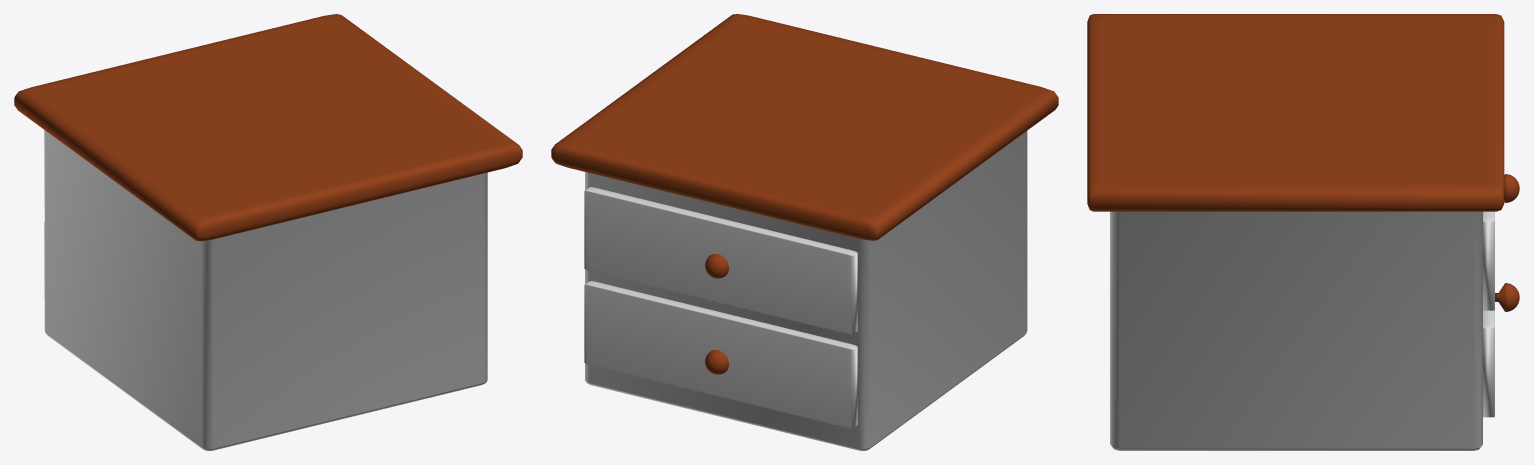
Rendered from BenchwithLongDrawers.glb.
3 renders of one model, left to right at view 1: azimuth 30°, elevation 25°; view 2: azimuth 150°, elevation 25°; view 3: azimuth 270°, elevation 25°, orthographic. The views are drawn at different scales.
Parts seen in each view (by area): view 1: Cube.002; view 2: Cube.002, Cube.003, Cube.001; view 3: Cube.002, Cube.003, Cube.001, Sphere.001.
Boxes of the visible parts, bbox=[...] form: Cube.002: bbox=[14, 14, 522, 450]; Cube.002: bbox=[551, 14, 1058, 450]; Cube.003: bbox=[584, 281, 857, 428]; Cube.001: bbox=[584, 187, 857, 334]; Cube.002: bbox=[1087, 14, 1504, 450]; Cube.003: bbox=[1483, 310, 1494, 417]; Cube.001: bbox=[1483, 211, 1494, 310]; Sphere.001: bbox=[1495, 283, 1519, 311].
Bounding box in the file's own units: 3.07 × 2.17 × 3.1.
